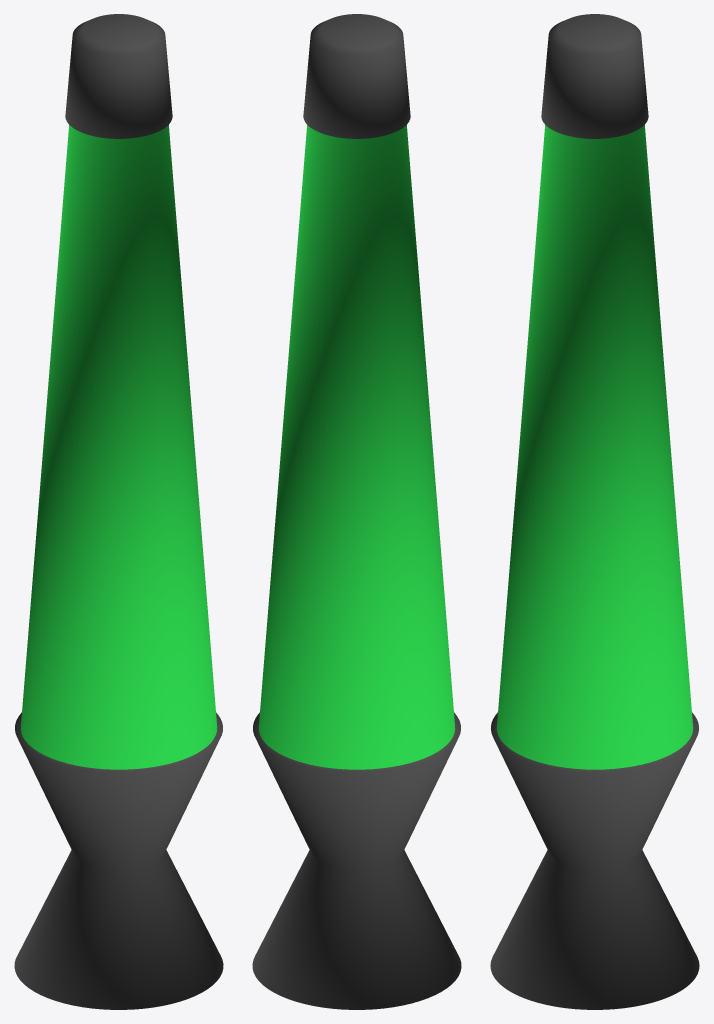
Rendered from Lava_Lamp.fbx.
The picture shows the model from 3 angles, left to right: view 1: azimuth 30°, elevation 25°; view 2: azimuth 150°, elevation 25°; view 3: azimuth 270°, elevation 25°; orthographic projection.
Visible parts, largest first — view 1: Circle; view 2: Circle; view 3: Circle.
Part boxes in pixels (x1,y1,x2,y2): Circle: (14, 14, 223, 1009); Circle: (252, 14, 461, 1009); Circle: (490, 14, 699, 1009).
Bounding box in the file's own units: 21.08 × 104 × 21.08.
